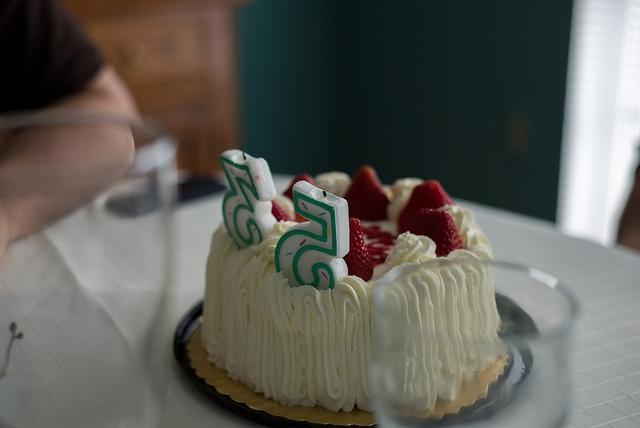strawberry: (397, 180, 455, 234), (403, 208, 464, 256), (343, 166, 392, 221), (342, 218, 373, 282), (283, 174, 316, 202), (271, 201, 291, 222)
